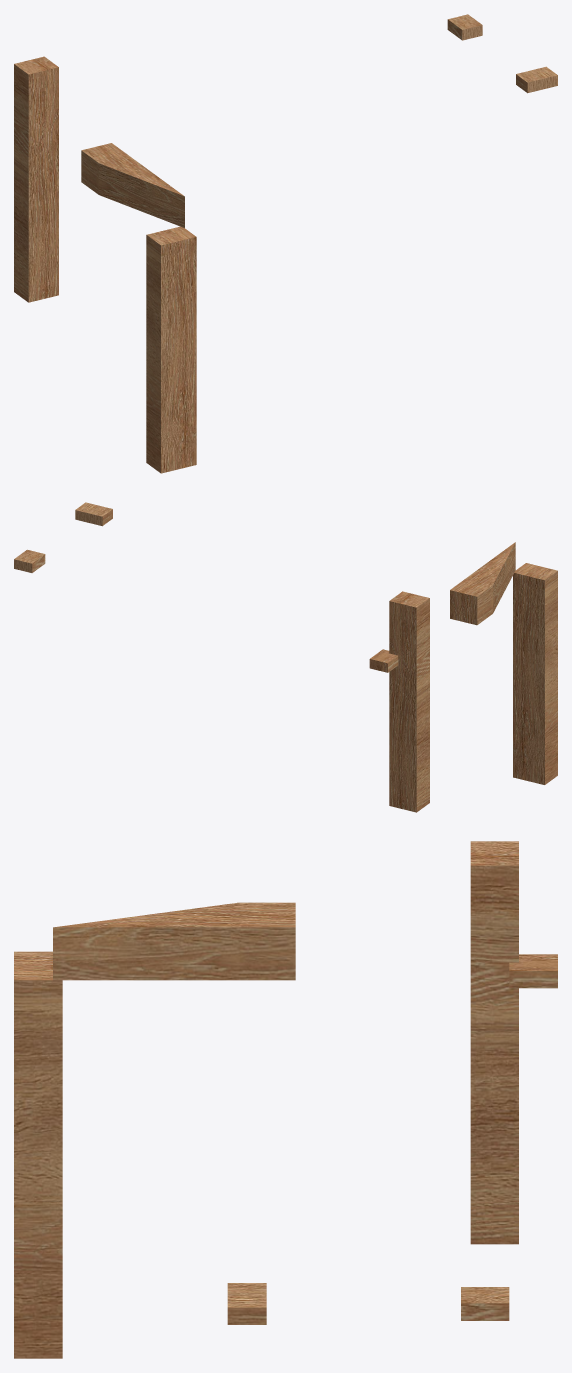
The model's file is 26488_deepcad.glb.
3 views of the same model, one above another, from view 1: azimuth 30°, elevation 25°; view 2: azimuth 150°, elevation 25°; view 3: azimuth 270°, elevation 25° (orthographic). The views are drawn at different scales.
Parts seen in each view (by area): view 1: test_cmd_26488_pred; view 2: test_cmd_26488_pred; view 3: test_cmd_26488_pred.
Part boxes in pixels (box(x1,y1,x2,y2)): test_cmd_26488_pred: box(14, 14, 557, 473); test_cmd_26488_pred: box(14, 502, 557, 812); test_cmd_26488_pred: box(14, 841, 557, 1358).
Bounding box in the file's own units: 1 × 0.6154 × 0.6154.
1 material, 1 textured.
